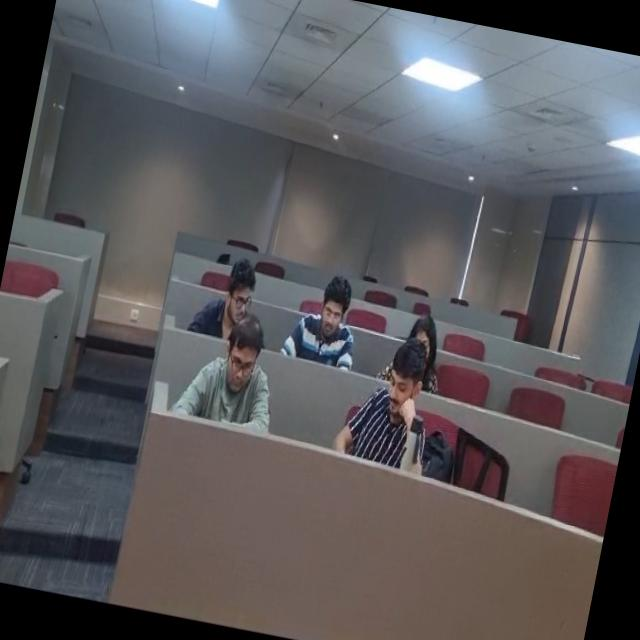cheating: (338, 332, 440, 472), (202, 253, 266, 332)
non-cheating: (197, 326, 288, 439), (285, 264, 374, 374), (402, 306, 462, 366)
